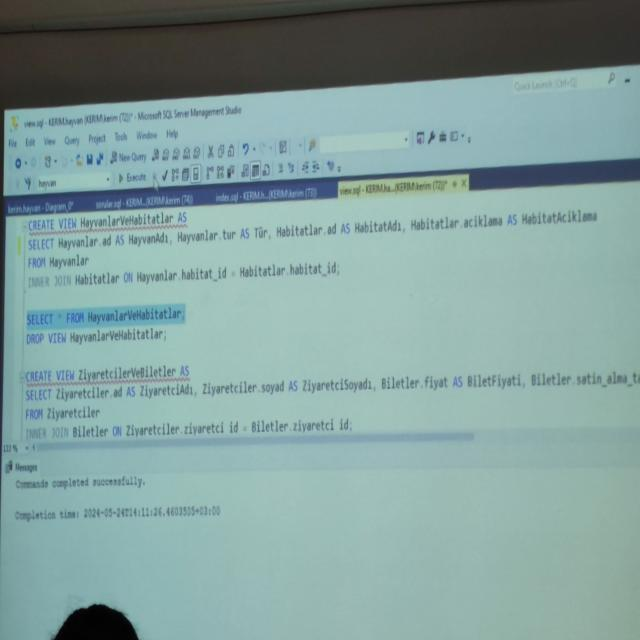text: (21, 306, 640, 441), (26, 205, 598, 289)
